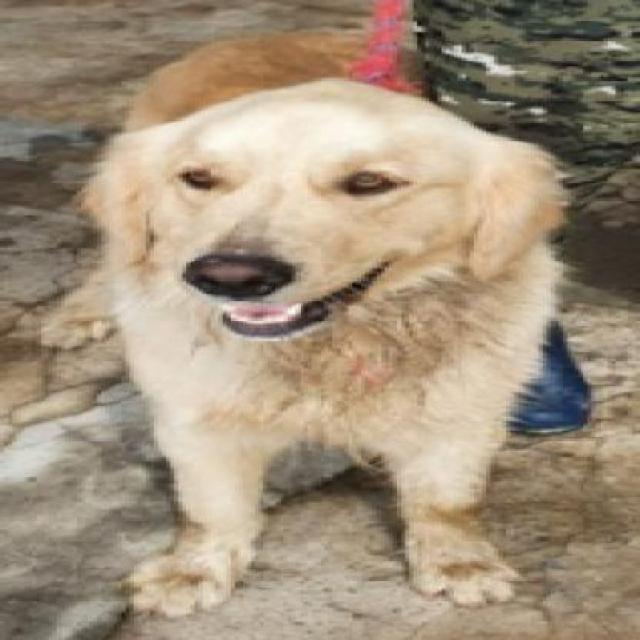Dog: (77, 29, 569, 618)
